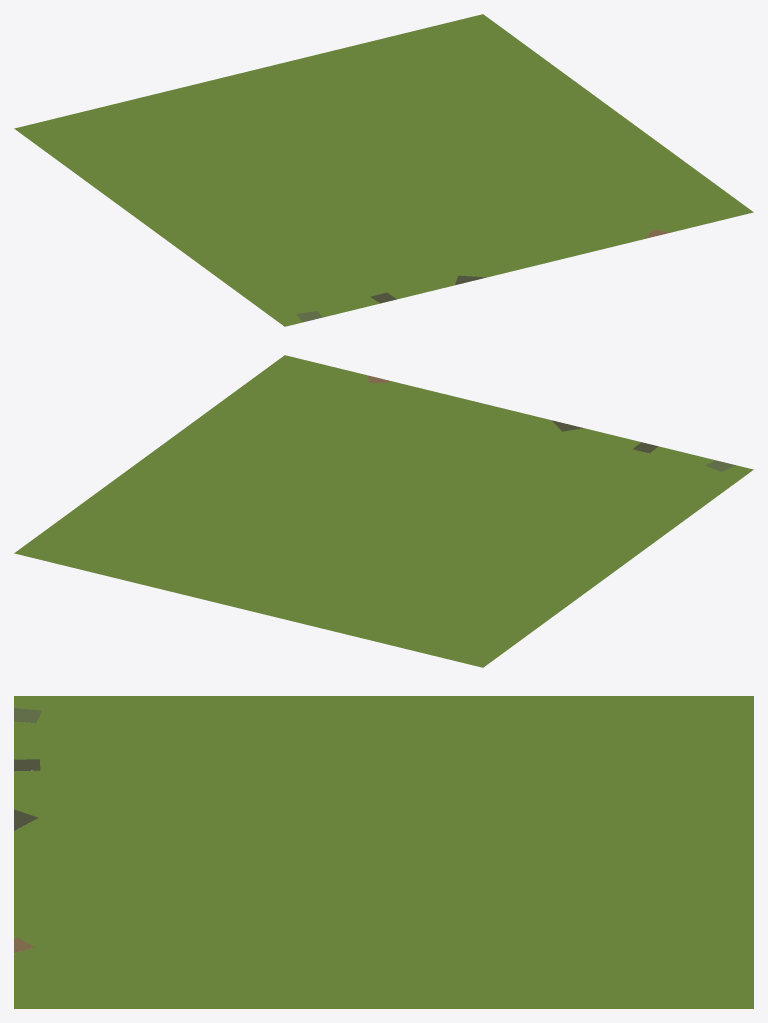
Rendered from cure-6-1.glb.
3 views of the same model, one above another, from view 1: azimuth 30°, elevation 25°; view 2: azimuth 150°, elevation 25°; view 3: azimuth 270°, elevation 25° (orthographic). The views are drawn at different scales.
Parts seen in each view (by area): view 1: cure-6-1; view 2: cure-6-1; view 3: cure-6-1.
Part boxes in pixels (x1,y1,x2,y2): cure-6-1: (14, 14, 753, 326); cure-6-1: (14, 355, 753, 667); cure-6-1: (14, 696, 753, 1008).
Size of the model in its own units: 100 by 0.003 by 100.
